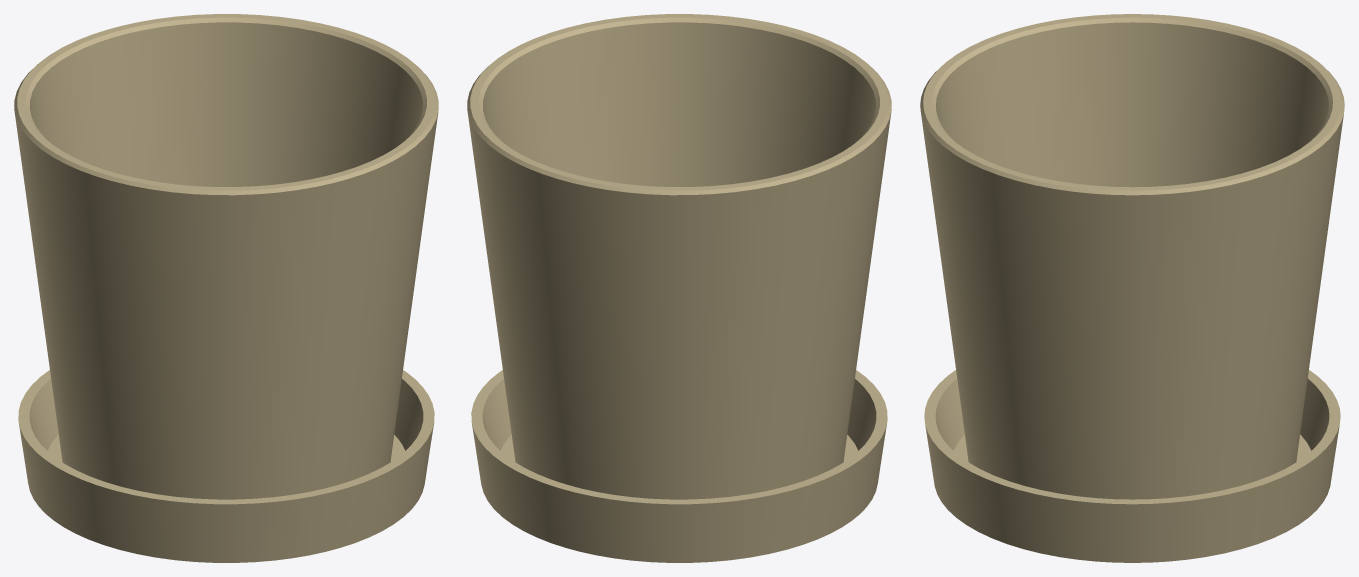
The model's file is 653_卓上向けプランター.glb.
3 views of the same model, side by side, from view 1: azimuth 30°, elevation 25°; view 2: azimuth 150°, elevation 25°; view 3: azimuth 270°, elevation 25° (orthographic).
Visible parts, largest first — view 1: Body, ukesara; view 2: Body, ukesara; view 3: Body, ukesara.
Part boxes in pixels (x1=…): Body: x1=14, y1=14, x2=438, y2=499; ukesara: x1=18, y1=370, x2=434, y2=562; Body: x1=467, y1=14, x2=891, y2=499; ukesara: x1=471, y1=370, x2=887, y2=562; Body: x1=920, y1=14, x2=1344, y2=499; ukesara: x1=924, y1=370, x2=1340, y2=562.
Size of the model in its own units: 0.1226 by 0.12 by 0.1226.
